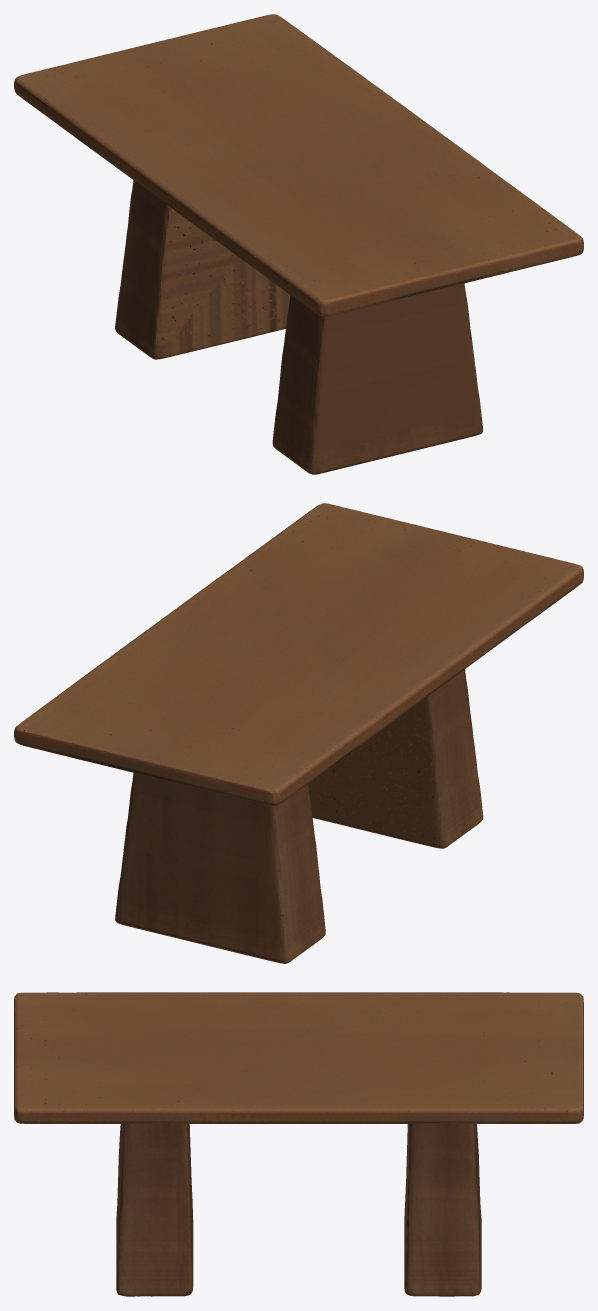
File: tribesigns-executive-workstations-conference-furniture.glb
3 views of the same model, one above another, from view 1: azimuth 30°, elevation 25°; view 2: azimuth 150°, elevation 25°; view 3: azimuth 270°, elevation 25° (orthographic). The views are drawn at different scales.
Visible parts, largest first — view 1: world; view 2: world; view 3: world.
Boxes of the visible parts, <box> form: world: <box>14,14,583,474</box>; world: <box>14,503,583,963</box>; world: <box>14,992,583,1296</box>.
Size of the model in its own units: 0.9788 by 0.8 by 1.98.
1 material, 1 textured.
